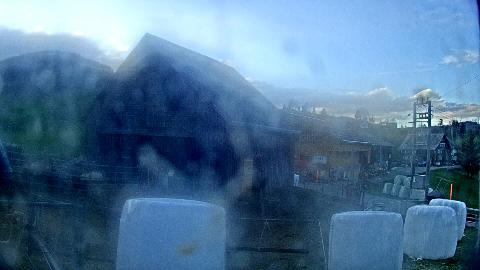car: (418, 161, 426, 167)
sheep: (0, 210, 28, 270), (86, 172, 102, 196), (253, 174, 268, 198), (30, 162, 44, 176)
